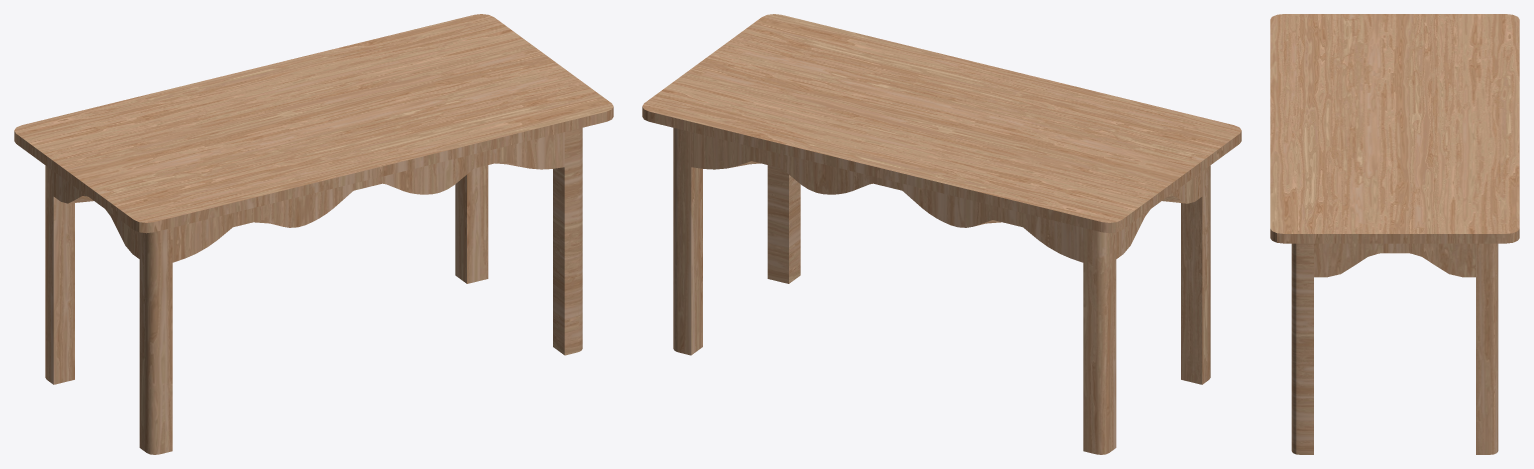
The model's file is Desk.fbx.
The picture shows the model from 3 angles, left to right: view 1: azimuth 30°, elevation 25°; view 2: azimuth 150°, elevation 25°; view 3: azimuth 270°, elevation 25°; orthographic projection. The views are drawn at different scales.
Visible parts, largest first — view 1: Cube.002; view 2: Cube.002; view 3: Cube.002.
Boxes of the visible parts, <box> form: Cube.002: <box>14,14,613,454</box>; Cube.002: <box>642,14,1241,454</box>; Cube.002: <box>1270,14,1519,454</box>.
Size of the model in its own units: 750 by 367 by 360.
